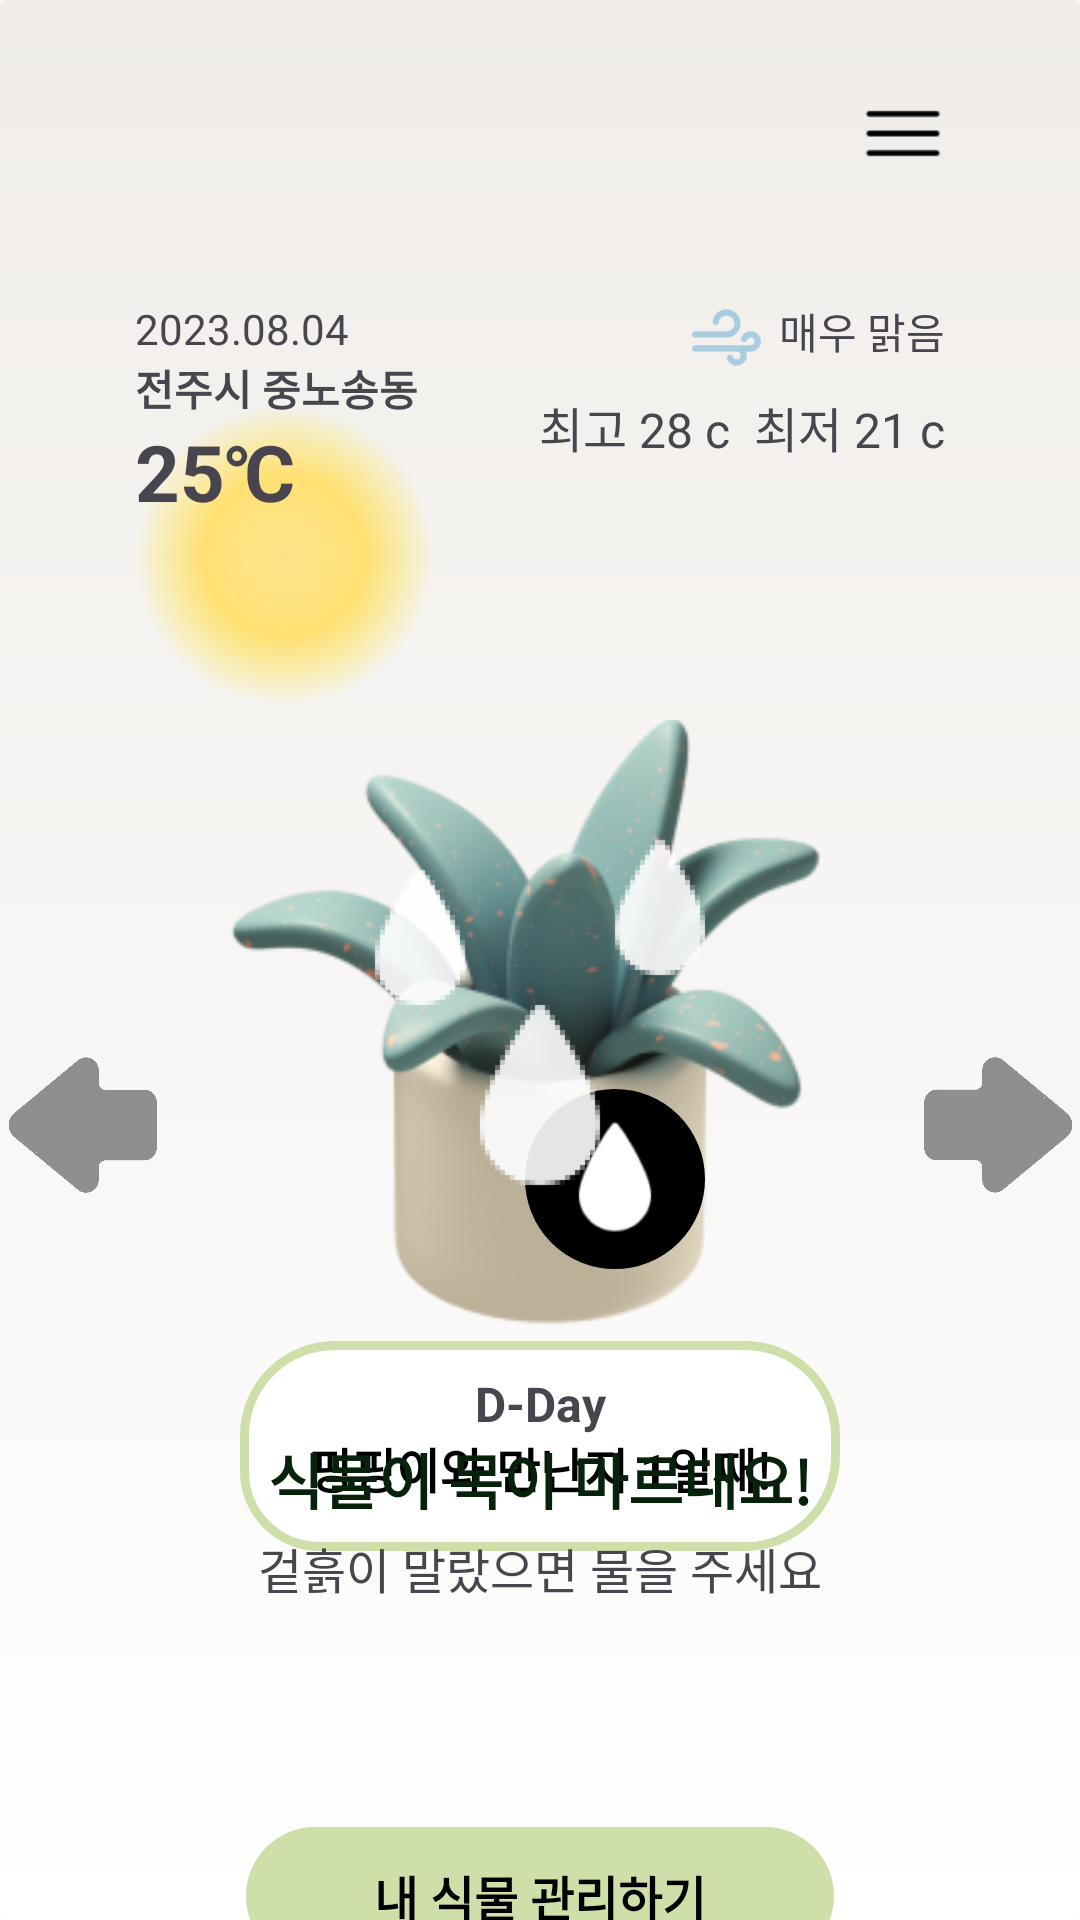

Icons on this 1080×1920 Android screen, each with its box as (x1, y1, x2, y2):
menu: (865, 110, 941, 157)
